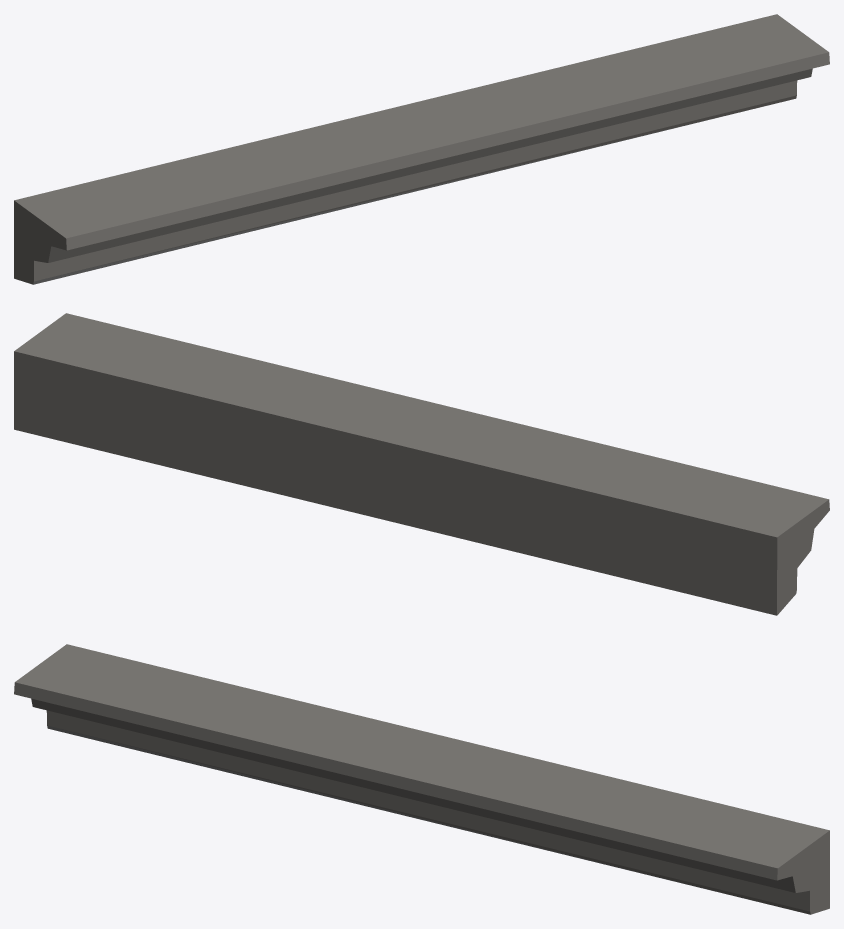
File: MCastle_Coving_Straight_01.FBX
3 views of the same model, one above another, from view 1: azimuth 30°, elevation 25°; view 2: azimuth 150°, elevation 25°; view 3: azimuth 330°, elevation 25° (orthographic).
Visible parts, largest first — view 1: MCastle_Coving_Straight_01_LOD0; view 2: MCastle_Coving_Straight_01_LOD0; view 3: MCastle_Coving_Straight_01_LOD0.
Part boxes in pixels (bbox=[...]): MCastle_Coving_Straight_01_LOD0: bbox=[14, 14, 829, 284]; MCastle_Coving_Straight_01_LOD0: bbox=[14, 313, 829, 615]; MCastle_Coving_Straight_01_LOD0: bbox=[14, 644, 829, 914].
Size of the model in its own units: 4.01 by 0.3931 by 0.4808.
